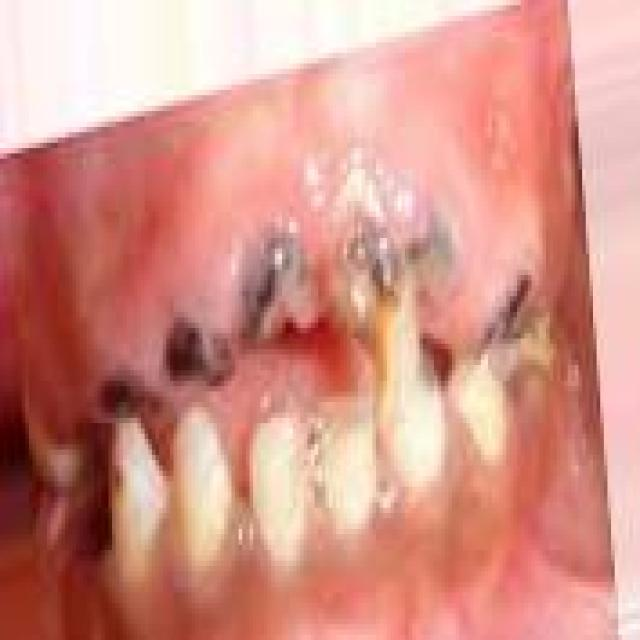caries: (236, 227, 324, 363), (326, 201, 407, 343), (161, 310, 239, 407), (477, 260, 543, 362), (90, 364, 162, 442)
